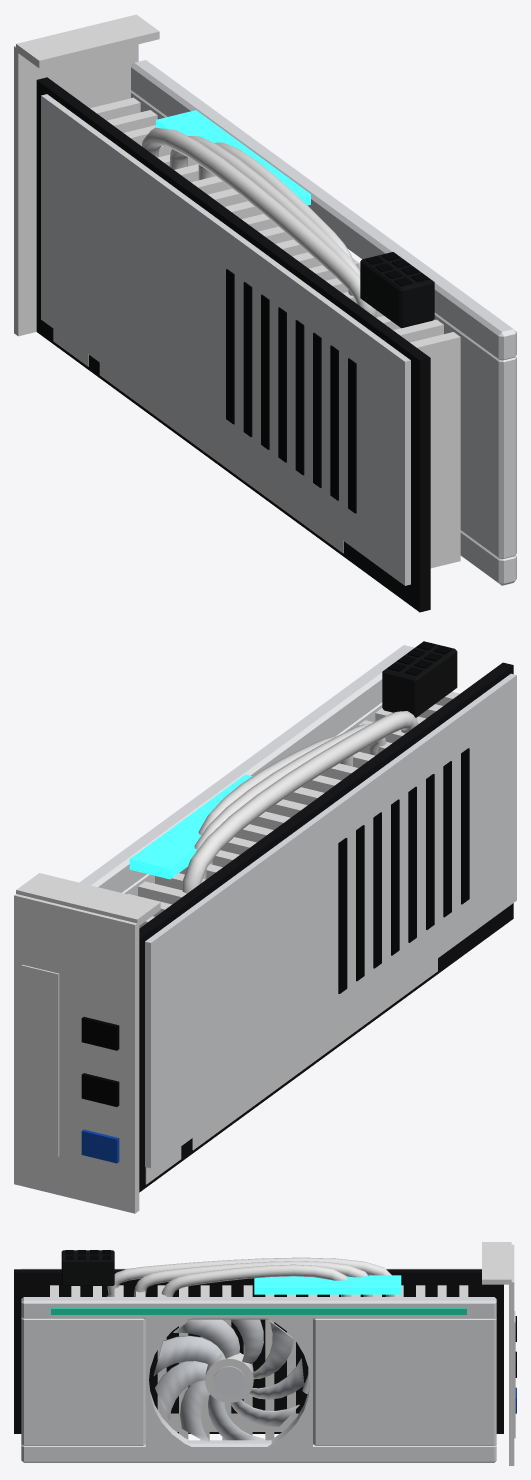
The model's file is hw_gpu_gtx1060.glb.
The picture shows the model from 3 angles, top to bottom: view 1: azimuth 30°, elevation 25°; view 2: azimuth 150°, elevation 25°; view 3: azimuth 270°, elevation 25°; orthographic projection. The views are drawn at different scales.
Visible parts, largest first — view 1: Body; view 2: Body; view 3: Body, Rotor_X_0.
Part boxes in pixels (left/top/right/bottom): Body: left=14, top=14, right=516, bottom=612; Body: left=14, top=641, right=516, bottom=1213; Body: left=14, top=1242, right=516, bottom=1465; Rotor_X_0: left=153, top=1319, right=304, bottom=1441.
Size of the model in its own units: 0.0367 by 0.0847 by 0.2036.
